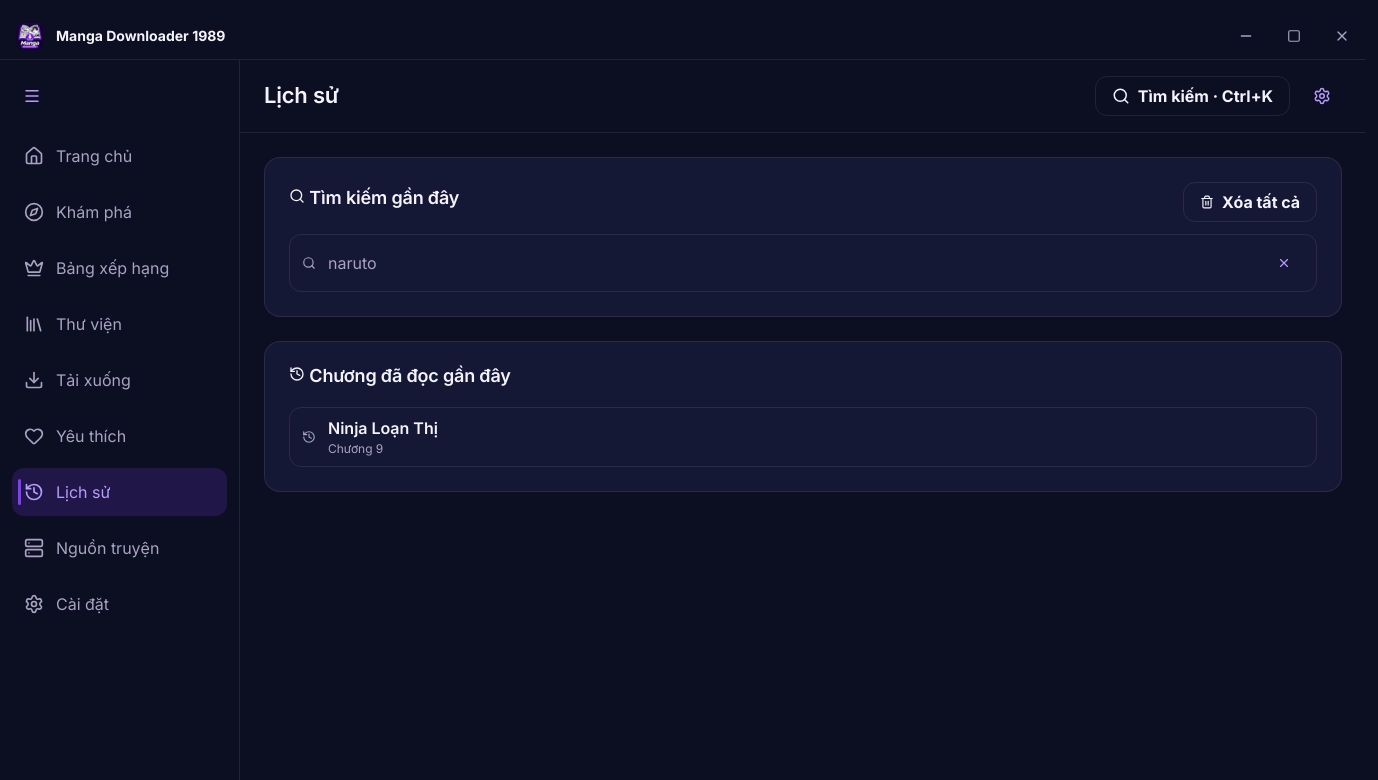
Scenario: Discover Phase 2 — recent searches › removes one query through IPC instead of hiding it locally
Step 1. Click the button named "Xóa naruto khỏi lịch sử" → (1284, 263), box [1264, 243, 1304, 283]
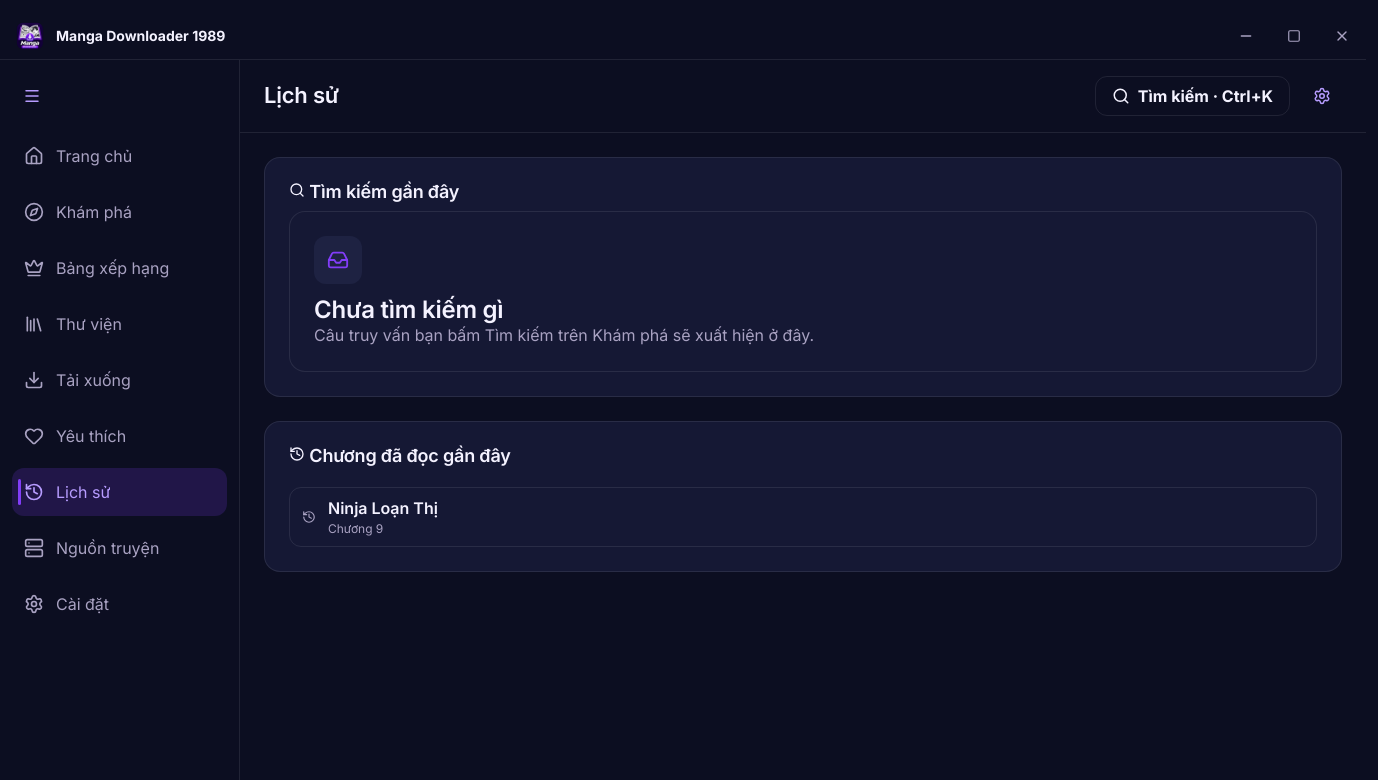
Expected: the heading "Chưa tìm kiếm gì" is shown, [314, 295, 503, 324]
Expected: the link "naruto" is gone
